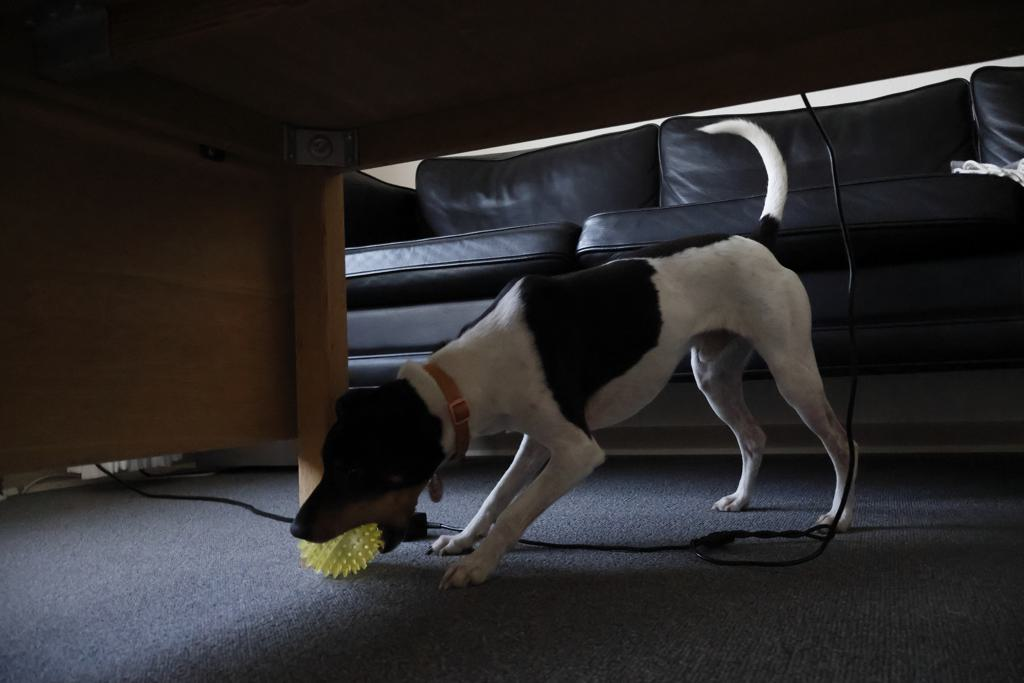Dog: (271, 111, 891, 598)
